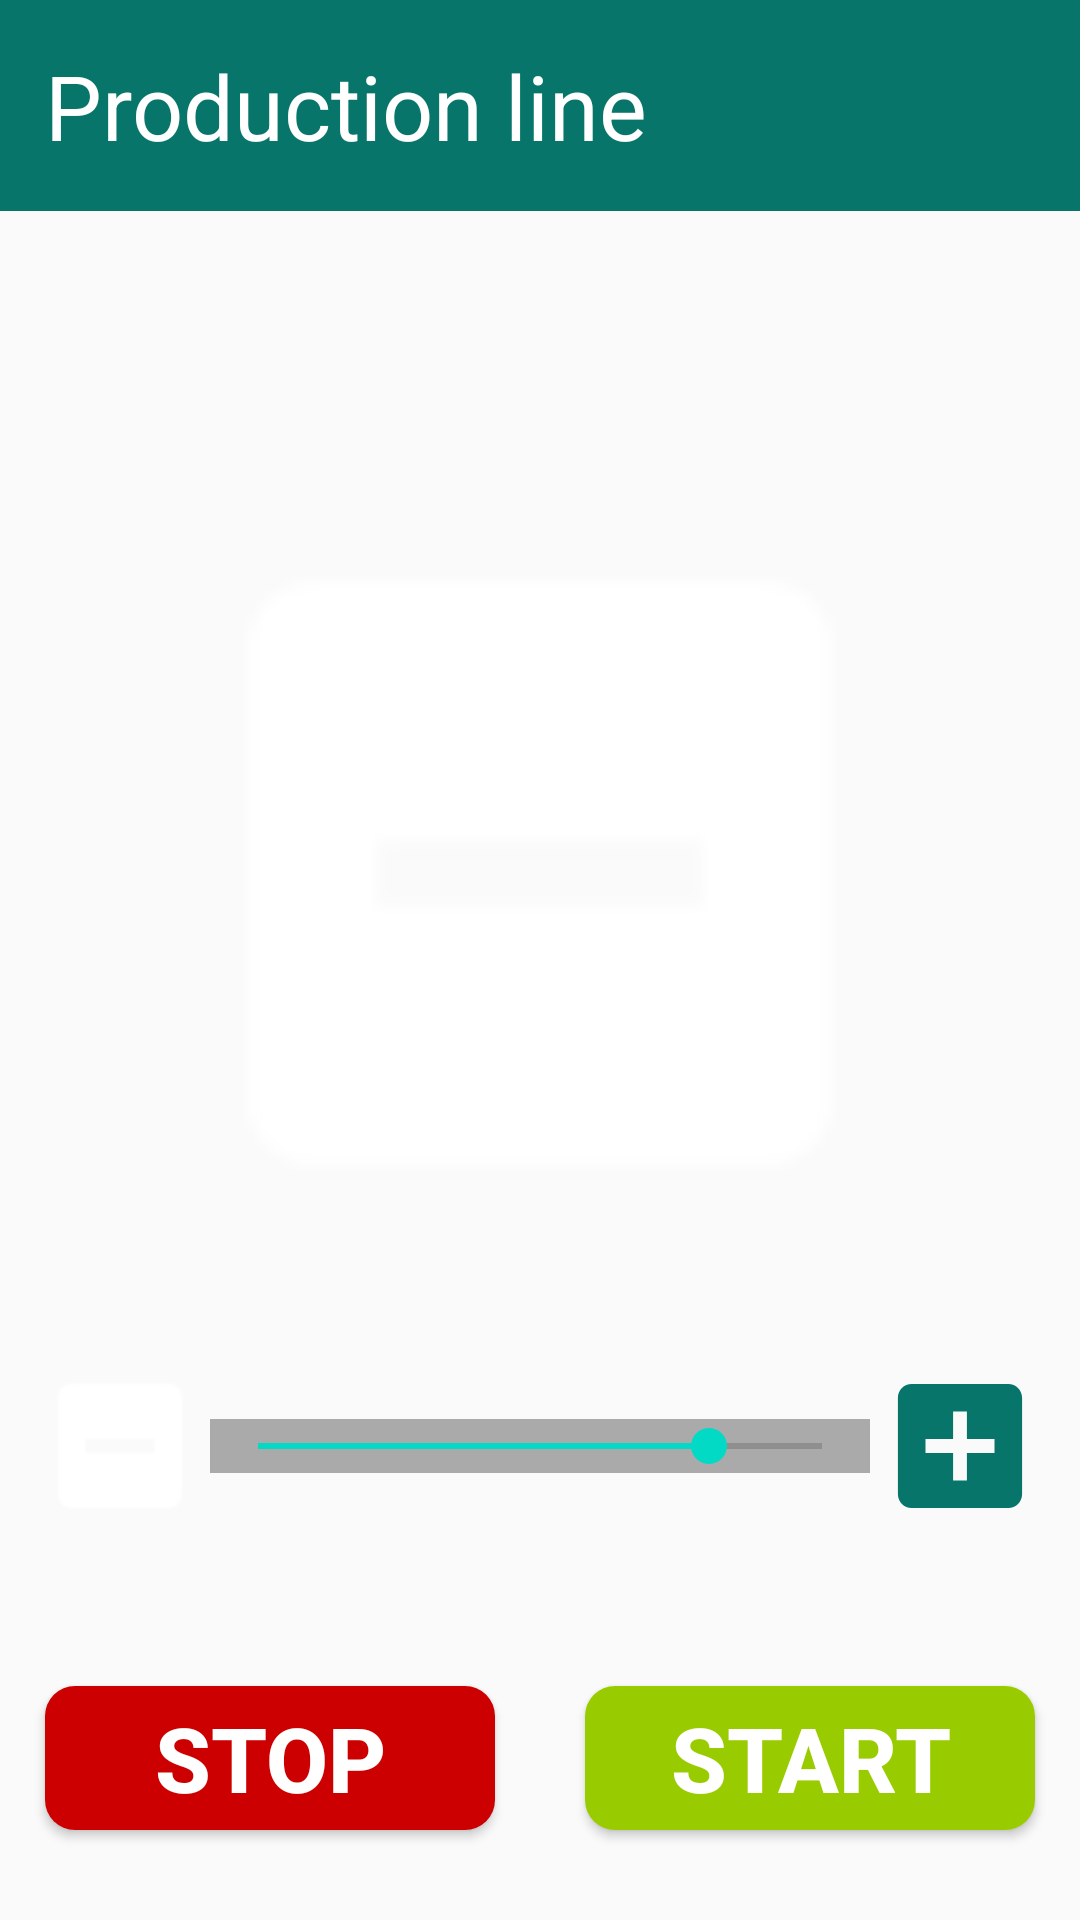

Screen size 1080x1920. Icon name, then its center in pixels as (x=x, y=y):
plus: (x=959, y=1446)
